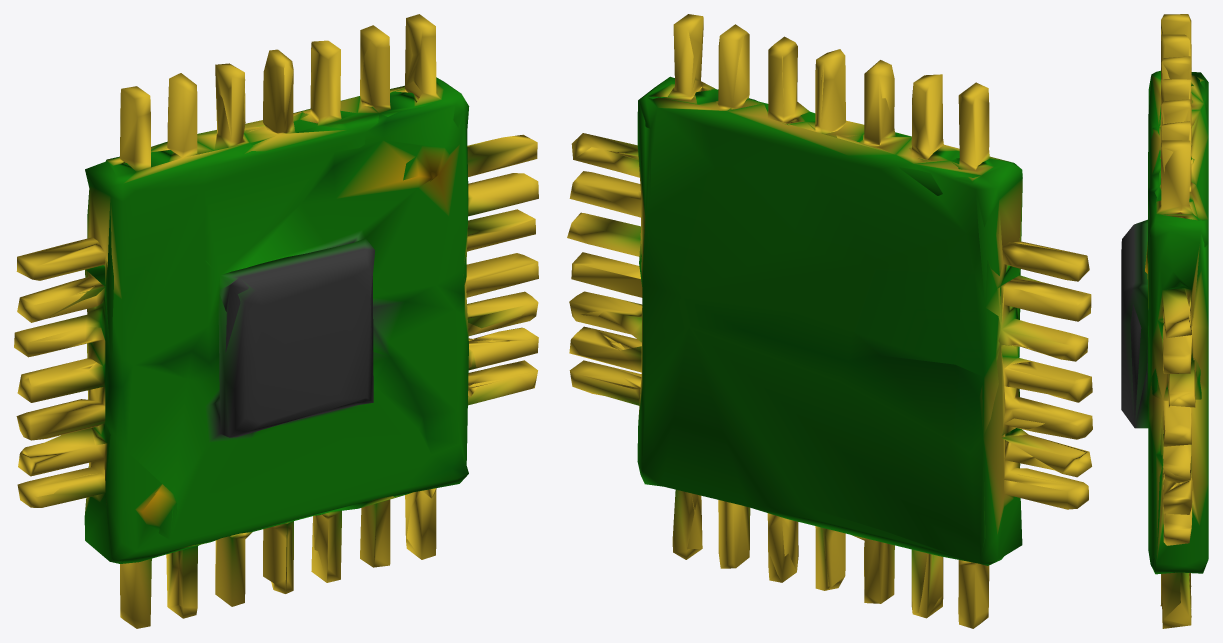
The model's file is gen3d-microchip-lod0.glb.
The picture shows the model from 3 angles, left to right: view 1: azimuth 30°, elevation 25°; view 2: azimuth 150°, elevation 25°; view 3: azimuth 270°, elevation 25°; orthographic projection. The views are drawn at different scales.
Parts seen in each view (by area): view 1: part_0; view 2: part_0; view 3: part_0.
Part boxes in pixels (bbox=[...]): part_0: bbox=[14, 14, 538, 628]; part_0: bbox=[567, 14, 1092, 628]; part_0: bbox=[1121, 14, 1208, 628].
Size of the model in its own units: 0.9994 by 0.9999 by 0.164.
